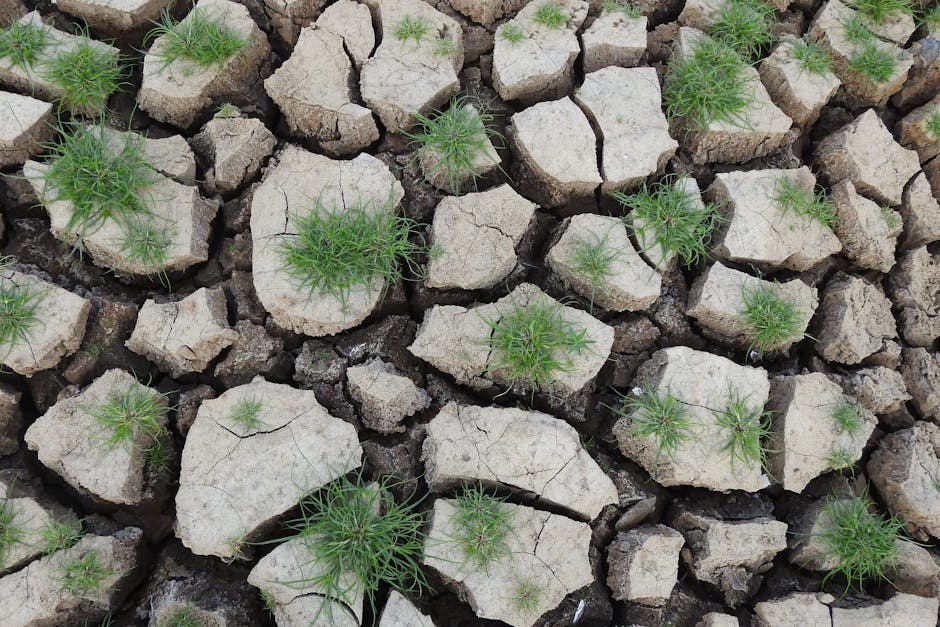深大裂缝: (398, 61, 676, 533), (152, 112, 317, 464), (2, 444, 289, 615)
